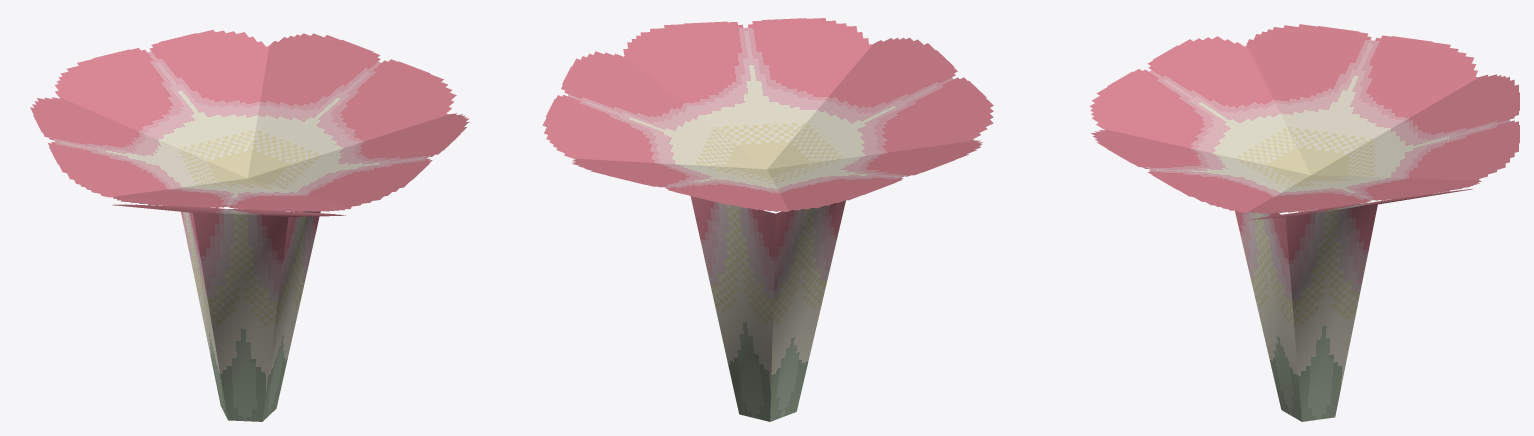
Rendered from 04e6_Red_Morning_Glory.glb.
The picture shows the model from 3 angles, left to right: view 1: azimuth 30°, elevation 25°; view 2: azimuth 150°, elevation 25°; view 3: azimuth 270°, elevation 25°; orthographic projection. The views are drawn at different scales.
Parts seen in each view (by area): view 1: part_0; view 2: part_0; view 3: part_0.
Part boxes in pixels (box(x1,y1,x2,y2)): part_0: box(30, 30, 469, 421); part_0: box(542, 18, 993, 421); part_0: box(1089, 24, 1519, 421).
Bounding box in the file's own units: 0.1255 × 0.0825 × 0.1194.
Materials: 1 (1 with a texture image).
